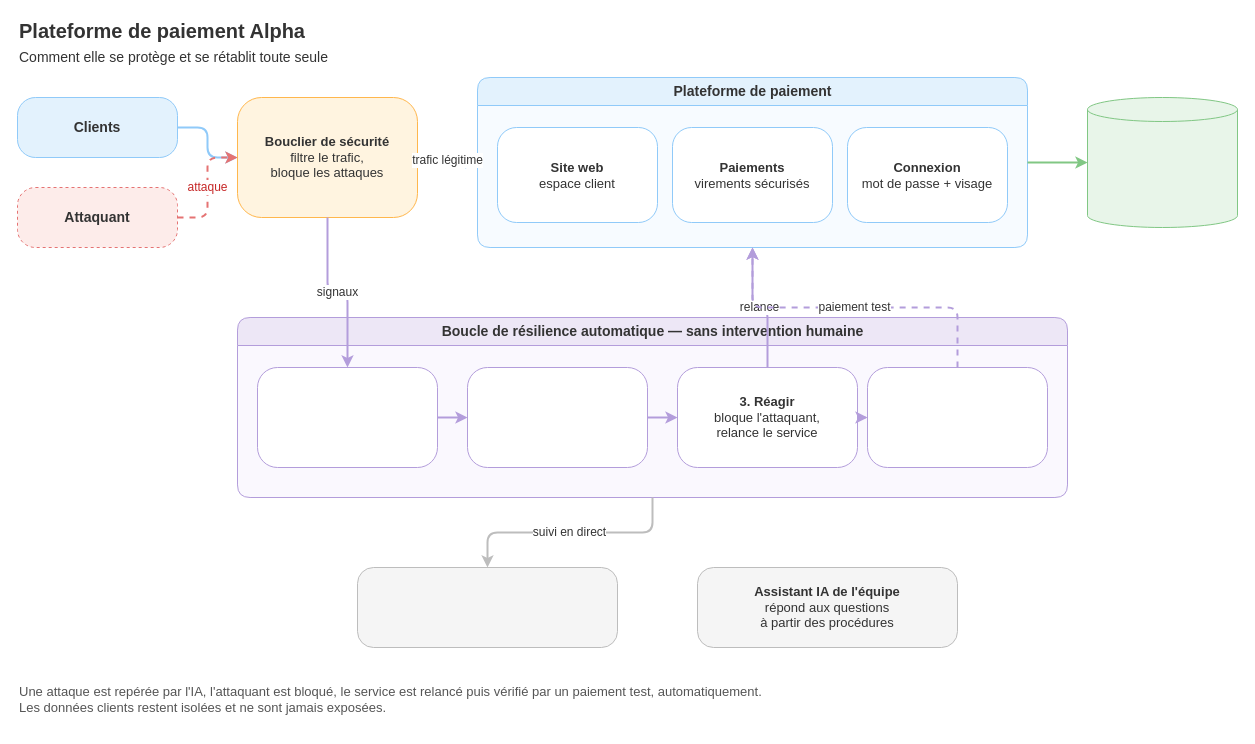
Some shapes in this 1255 by 744 pixel diagram are drawn without their labels. Here are the shapes that lost their labels. From the top down, the centre of each, then its label:
At (1162,162): "Données clients isolées, jamais exposées".
At (347,417): "1. Surveiller activité et journaux en continu".
At (557,417): "2. Détecter une IA repère le comportement anormal".
At (957,417): "4. Vérifier un paiement test confirme que tout fonctionne".
At (487,607): "Tableau de bord état du service, alertes et actions en temps réel".
